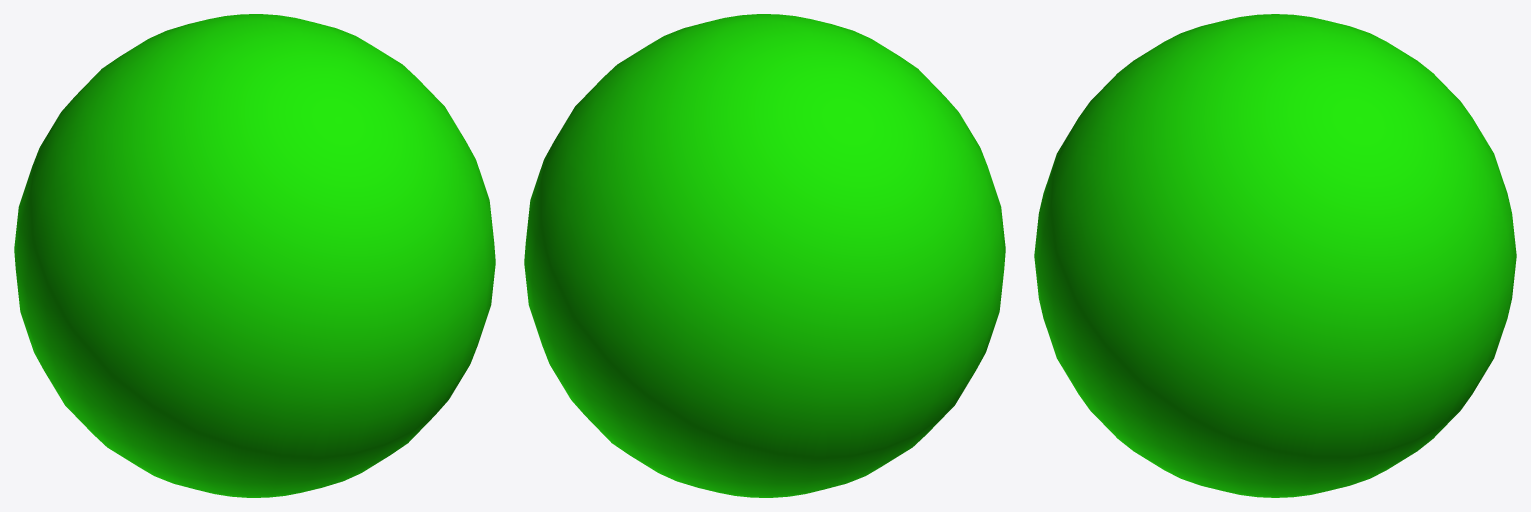
File: green.fbx
3 renders of one model, left to right at view 1: azimuth 30°, elevation 25°; view 2: azimuth 150°, elevation 25°; view 3: azimuth 270°, elevation 25°, orthographic.
Parts seen in each view (by area): view 1: Sphere; view 2: Sphere; view 3: Sphere.
Part boxes in pixels (bbox=[...]): Sphere: bbox=[14, 14, 495, 497]; Sphere: bbox=[524, 14, 1005, 497]; Sphere: bbox=[1034, 14, 1516, 497].
Bounding box in the file's own units: 99.04 × 99.04 × 99.04.
